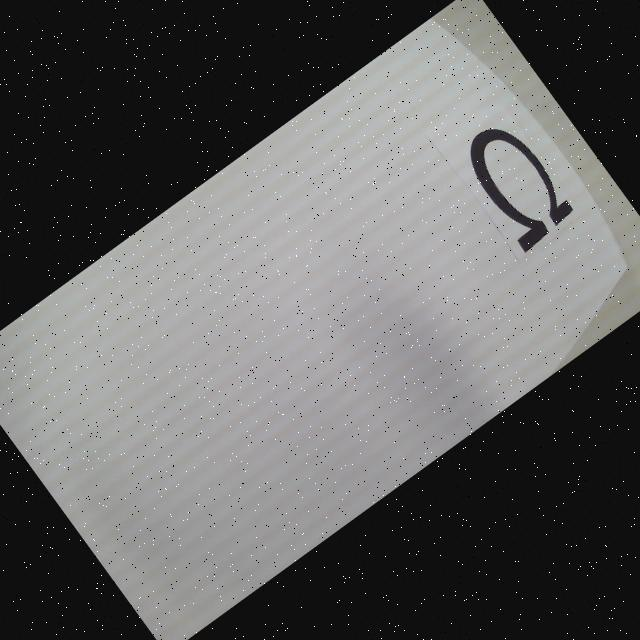OMEGA: (453, 114, 578, 252)
